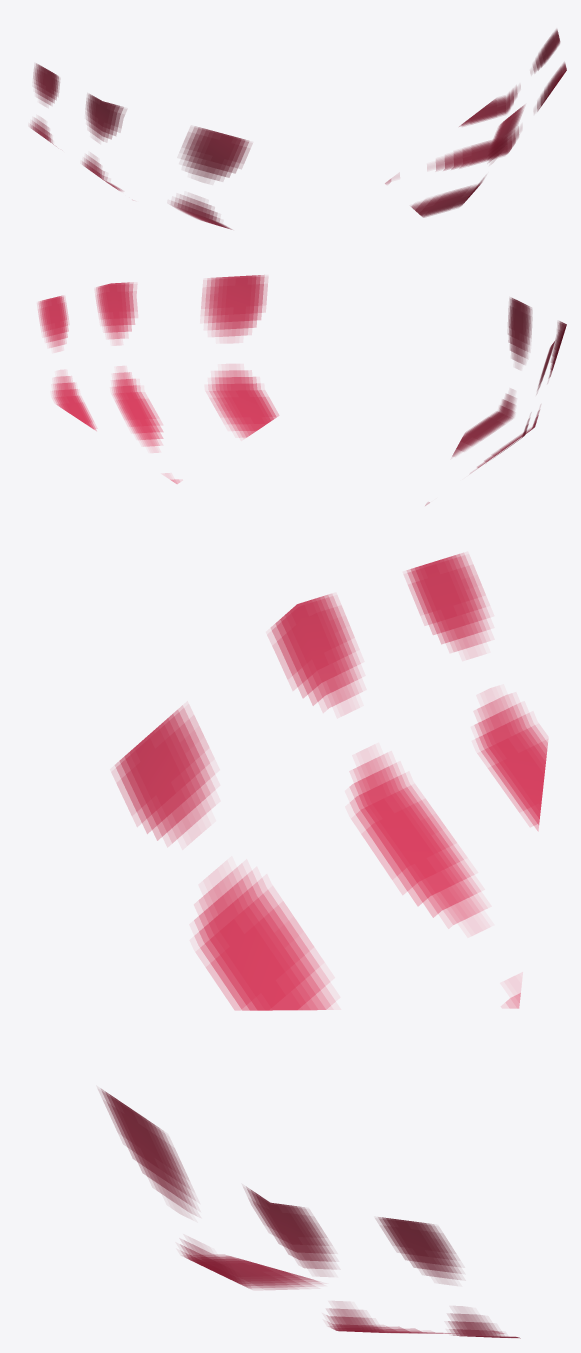
The picture shows the model from 3 angles, top to bottom: view 1: azimuth 30°, elevation 25°; view 2: azimuth 150°, elevation 25°; view 3: azimuth 270°, elevation 25°; orthographic projection. The views are drawn at different scales.
Parts seen in each view (by area): view 1: ef_501; view 2: ef_501; view 3: ef_501.
Part boxes in pixels (bbox=[...]): ef_501: bbox=[30, 29, 566, 229]; ef_501: bbox=[38, 275, 566, 505]; ef_501: bbox=[98, 553, 547, 1338].
Bounding box in the file's own units: 0.7087 × 0.28 × 0.3006.
Materials: 1 (1 with a texture image).
